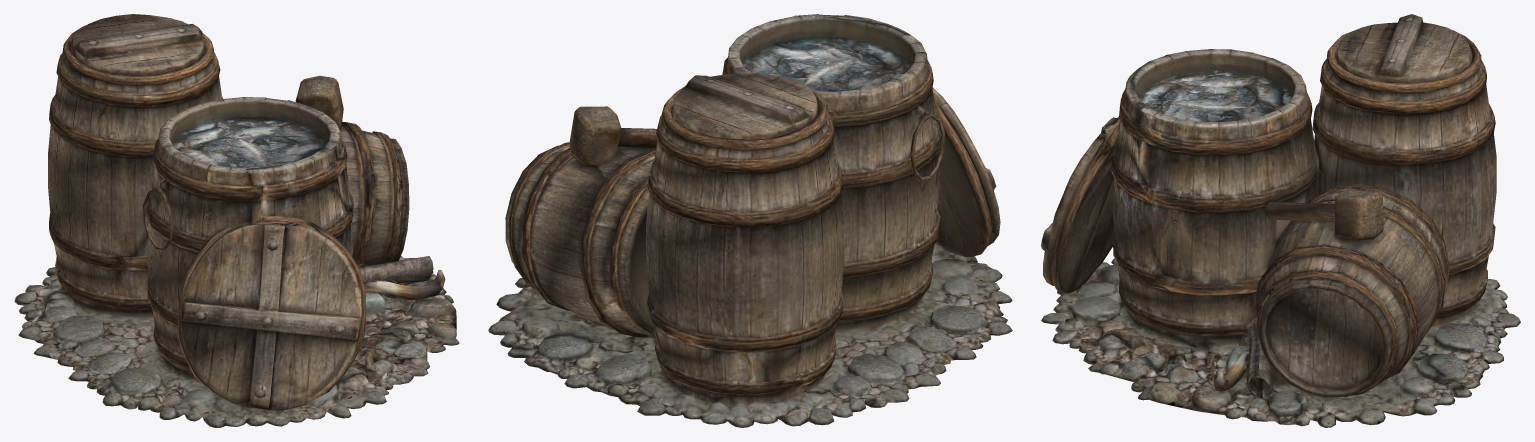
Rendered from kit_sf_fish_barrels.glb.
3 renders of one model, left to right at view 1: azimuth 30°, elevation 25°; view 2: azimuth 150°, elevation 25°; view 3: azimuth 270°, elevation 25°, orthographic. The views are drawn at different scales.
Parts seen in each view (by area): view 1: kit_sf_fish_barrels; view 2: kit_sf_fish_barrels; view 3: kit_sf_fish_barrels.
Part boxes in pixels (left/top/right/bottom): kit_sf_fish_barrels: left=14, top=14, right=459, bottom=427; kit_sf_fish_barrels: left=488, top=14, right=1012, bottom=427; kit_sf_fish_barrels: left=1041, top=14, right=1520, bottom=427.
Bounding box in the file's own units: 1.79 × 1.15 × 1.89.
1 material, 1 textured.
